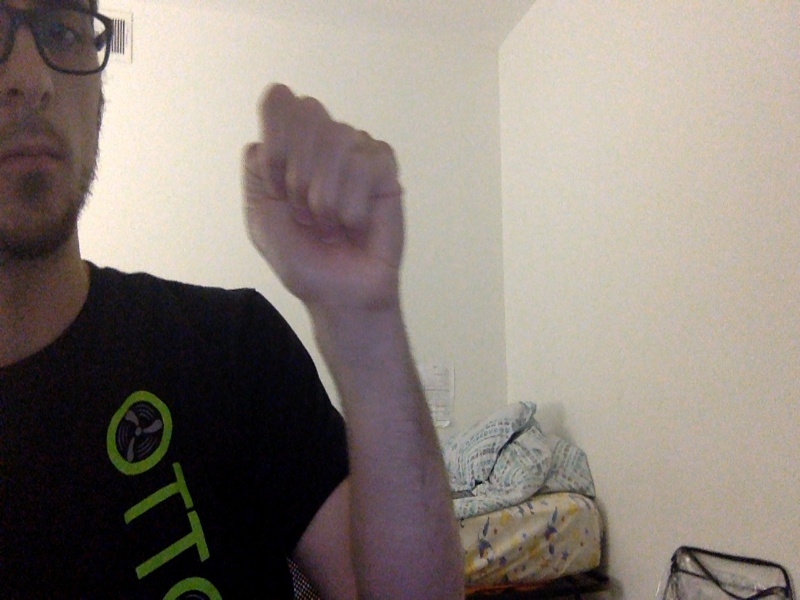0-hand: (241, 77, 406, 304)
